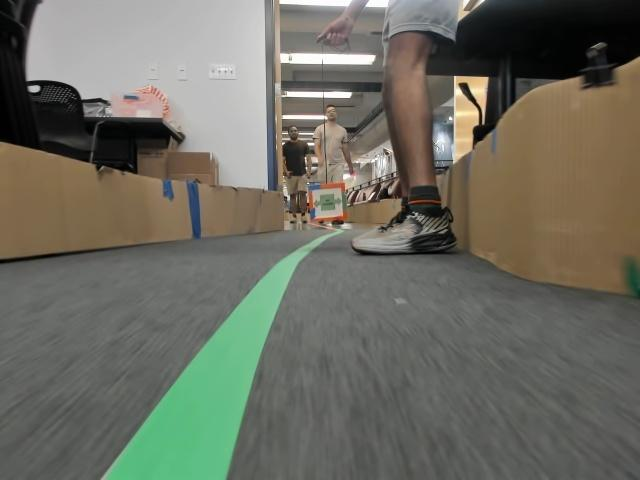Go Around: (313, 195, 340, 210)
